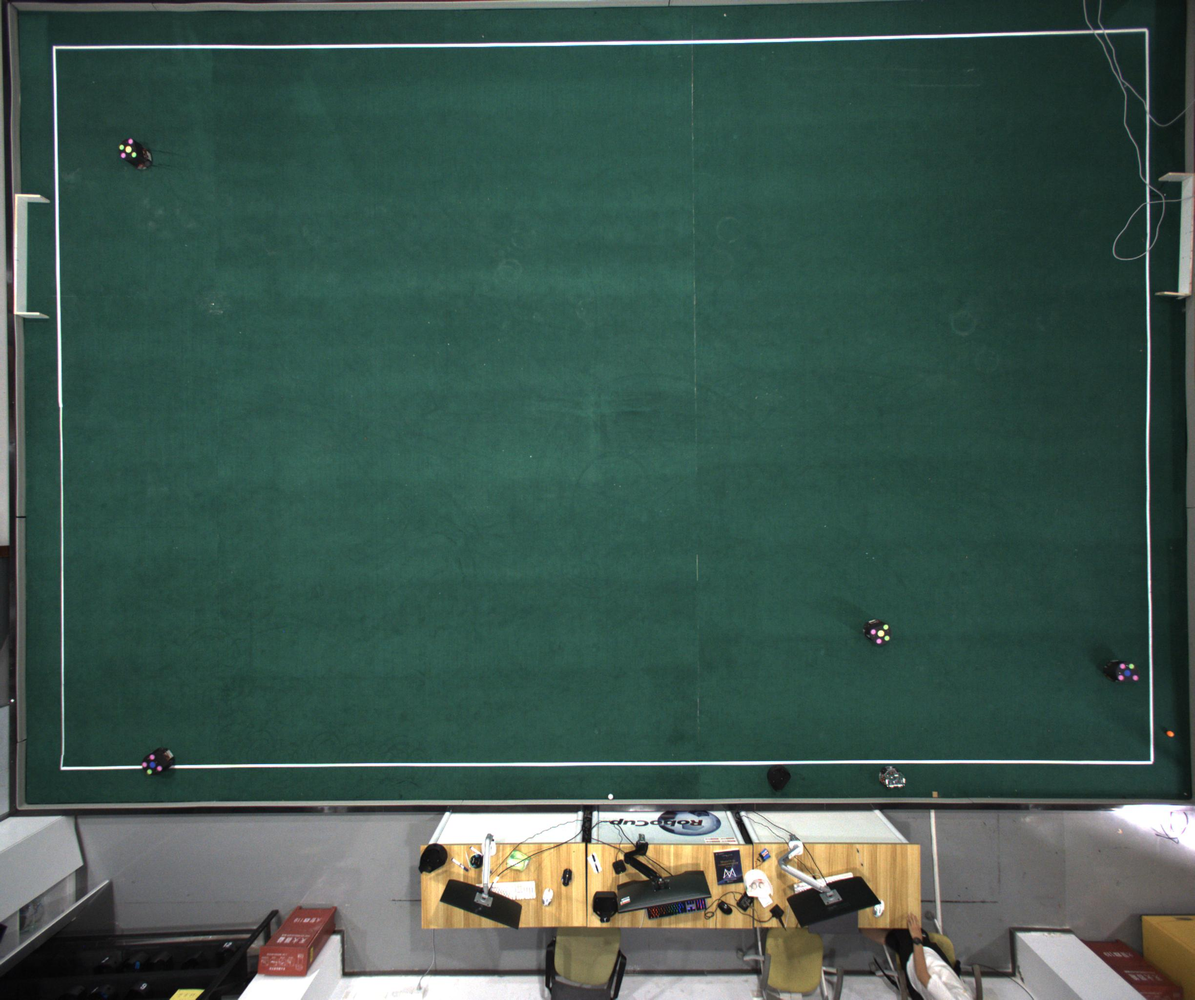ball: (1166, 730, 1174, 738)
blue_bot: (1115, 662, 1140, 683), (142, 753, 164, 776)
yellow_bot: (869, 623, 891, 644), (118, 138, 138, 161)
